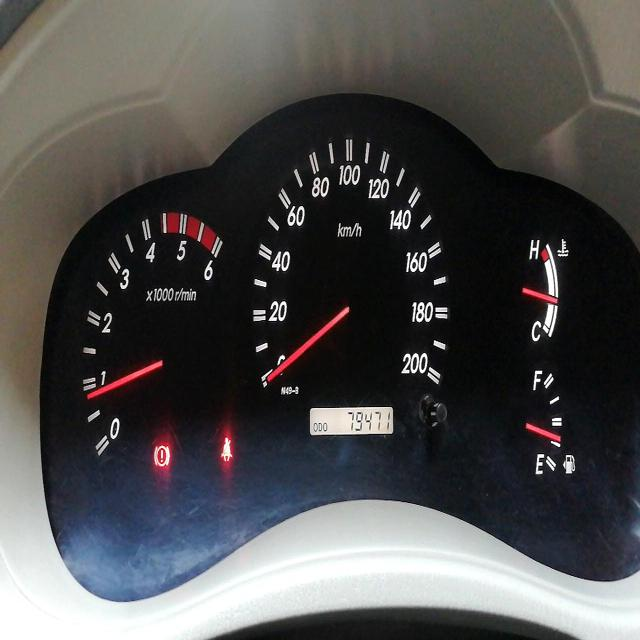odometer: (345, 404, 393, 436)
